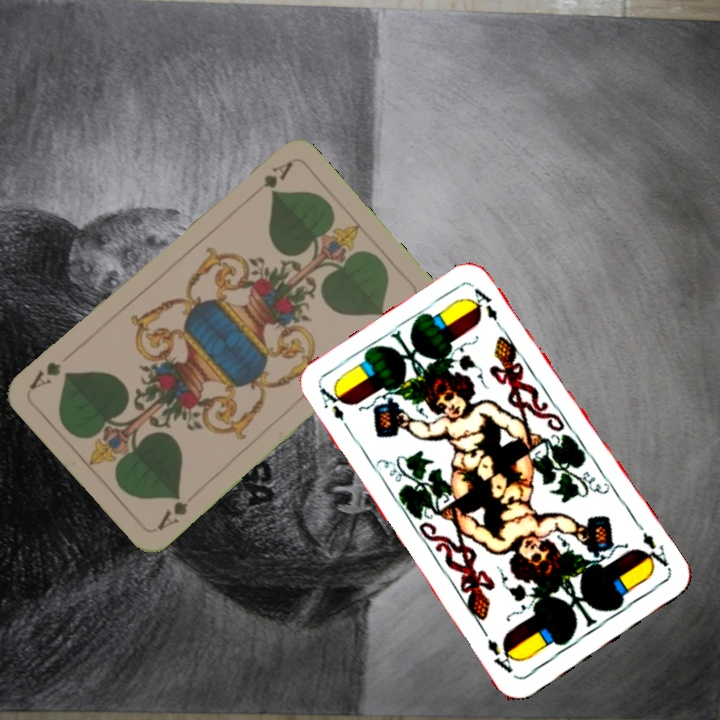EA: (316, 382, 355, 437), (636, 528, 673, 573)
GA: (246, 157, 295, 200), (153, 489, 191, 534)
